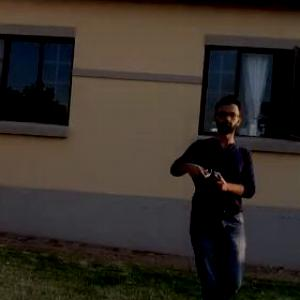follow: (167, 88, 264, 299)
